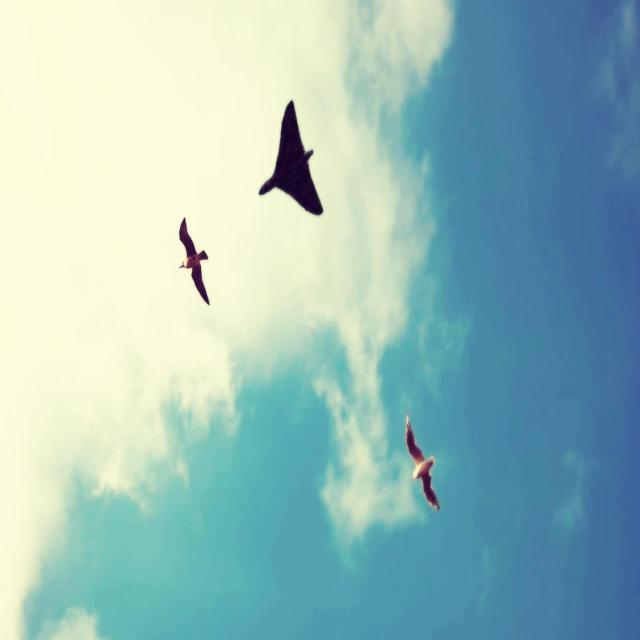airplane: (258, 98, 324, 216)
